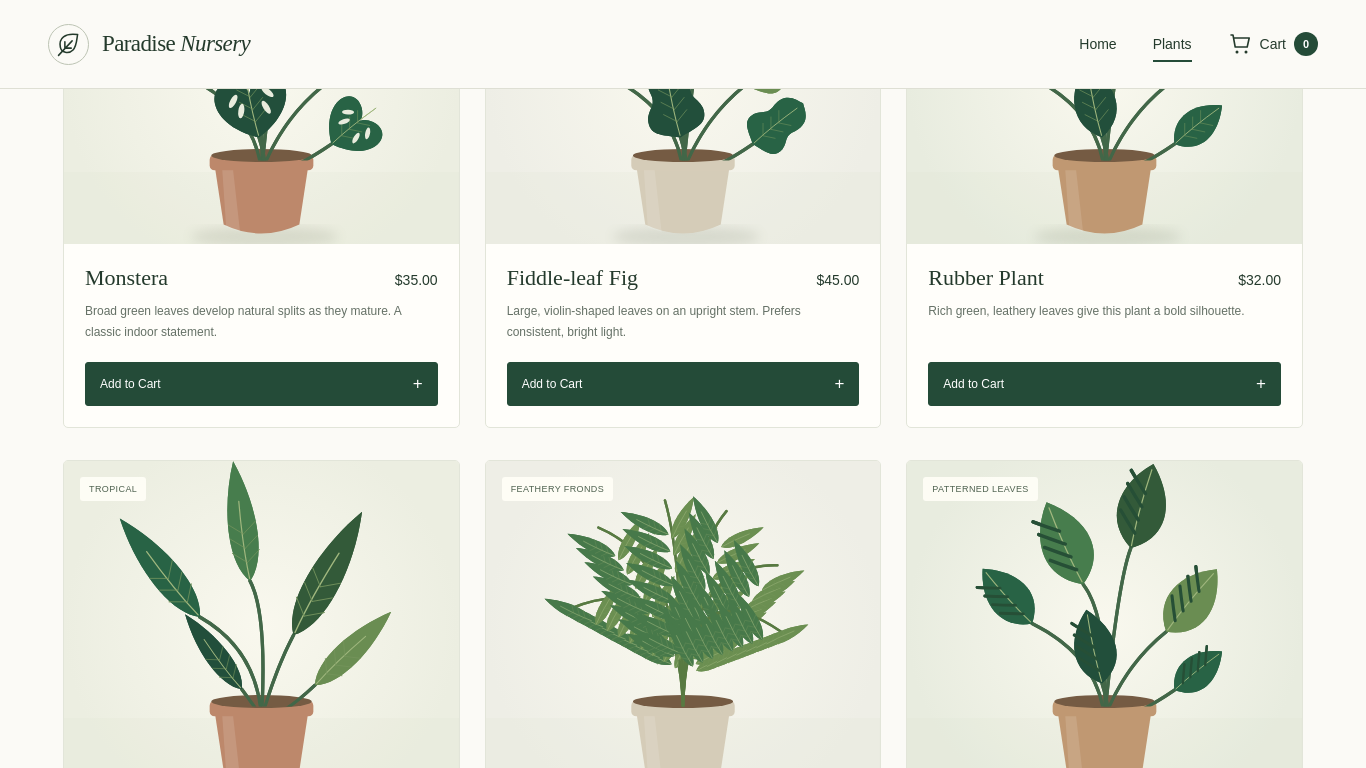
it: Paradise Nursery shopping flow › preserves the cart when navigating Home, Plants, and Cart
The width and height of the screenshot is (1366, 768).
(page scrolled)
Click the button with aria-label "Add Monstera to cart" at (130, 384), box [85, 362, 438, 406]
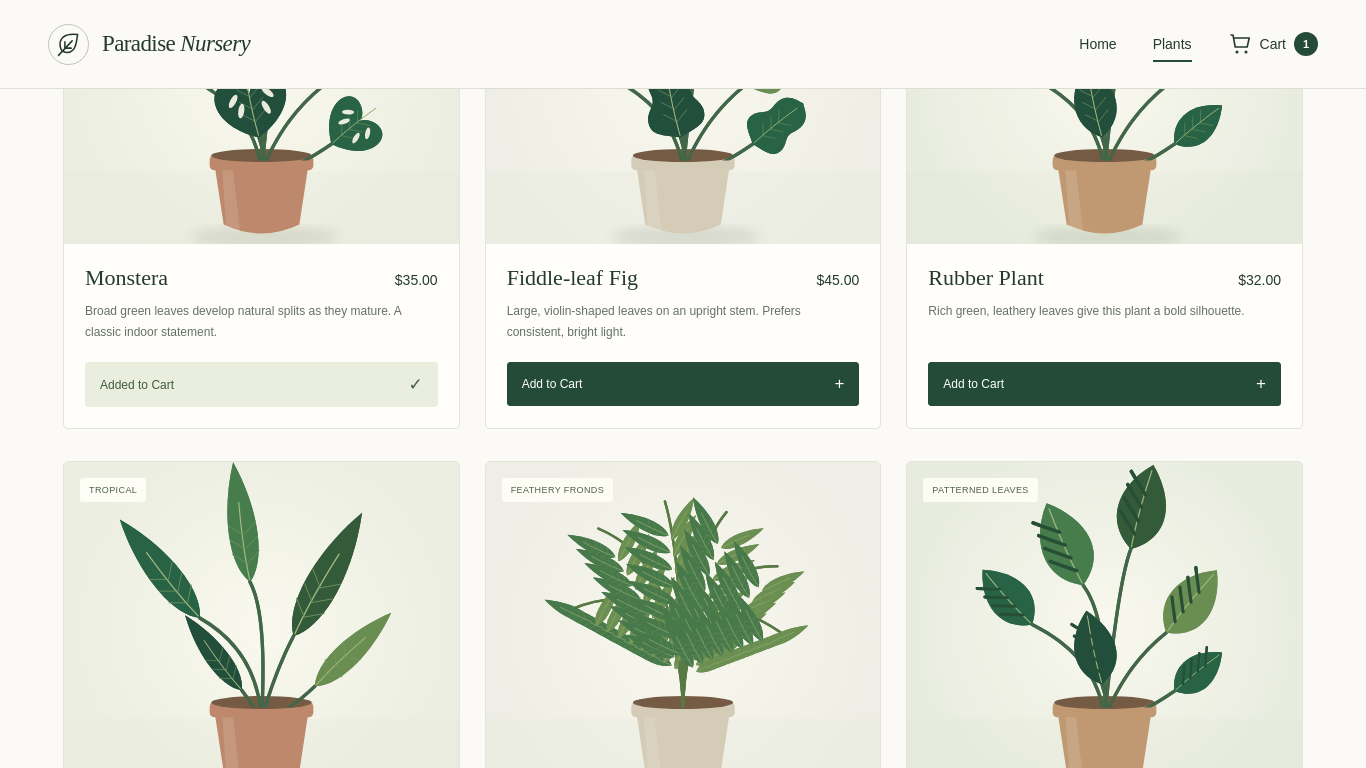
Click the link "Home" at (1098, 44), box [1079, 36, 1117, 52]
(page scrolled)
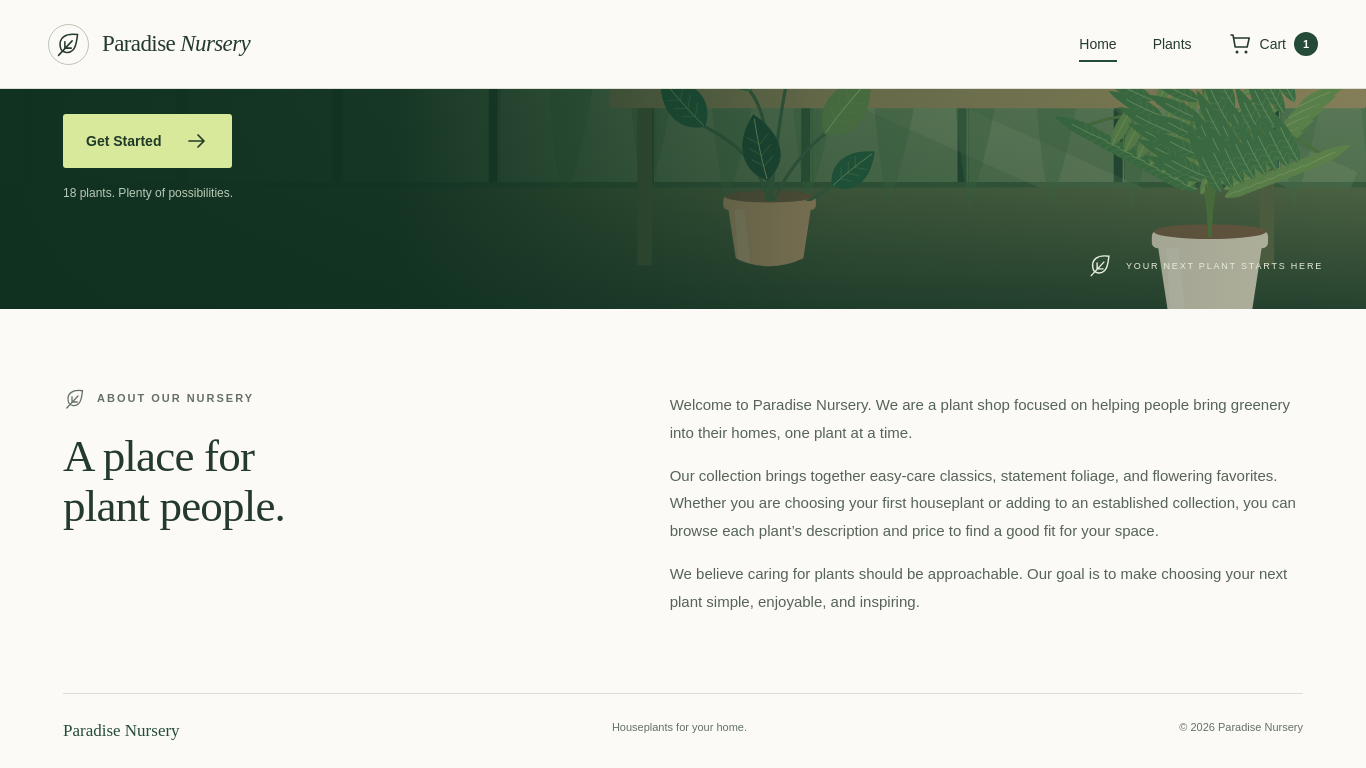
Click the link "Plants" at (1172, 44), box [1153, 36, 1192, 52]
(page scrolled)
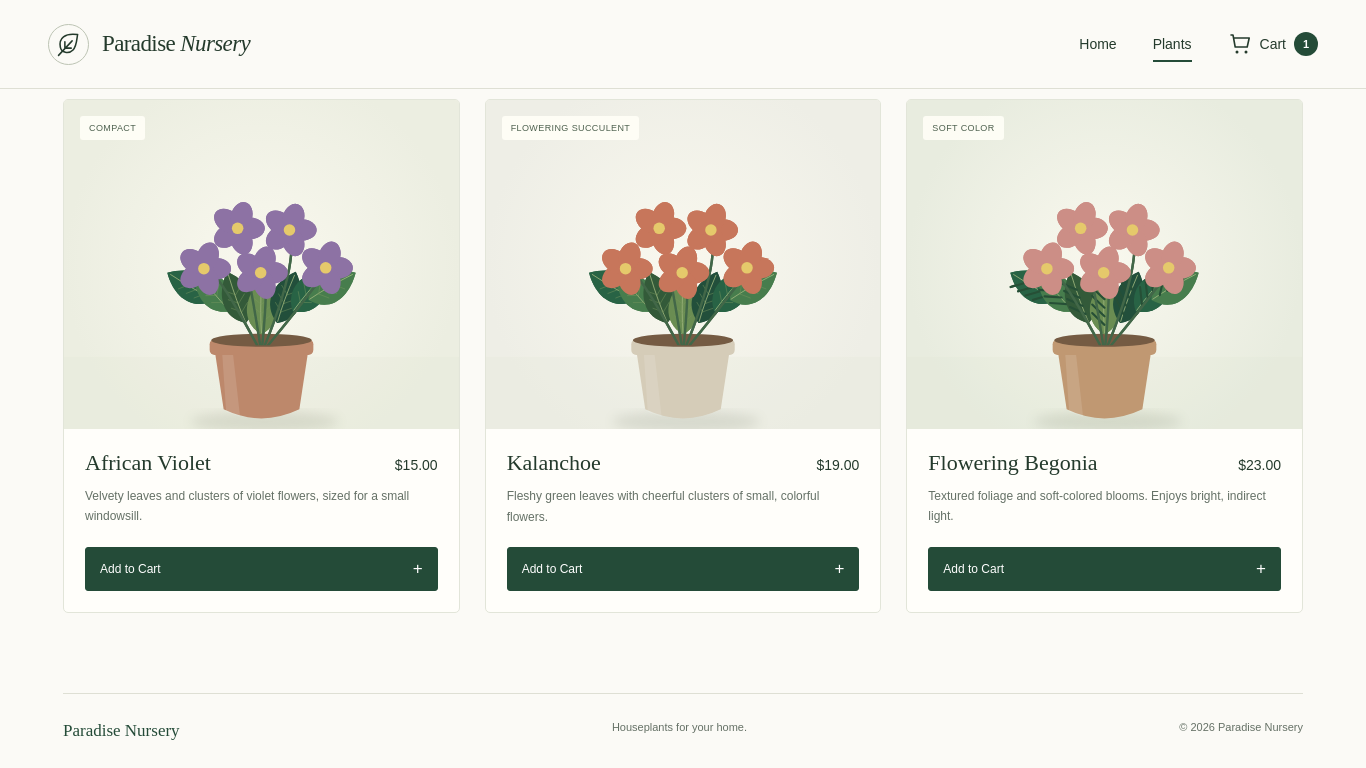
Click the link with aria-label "Cart, 1 item" at (1273, 44), box [1228, 32, 1318, 56]
(page scrolled)
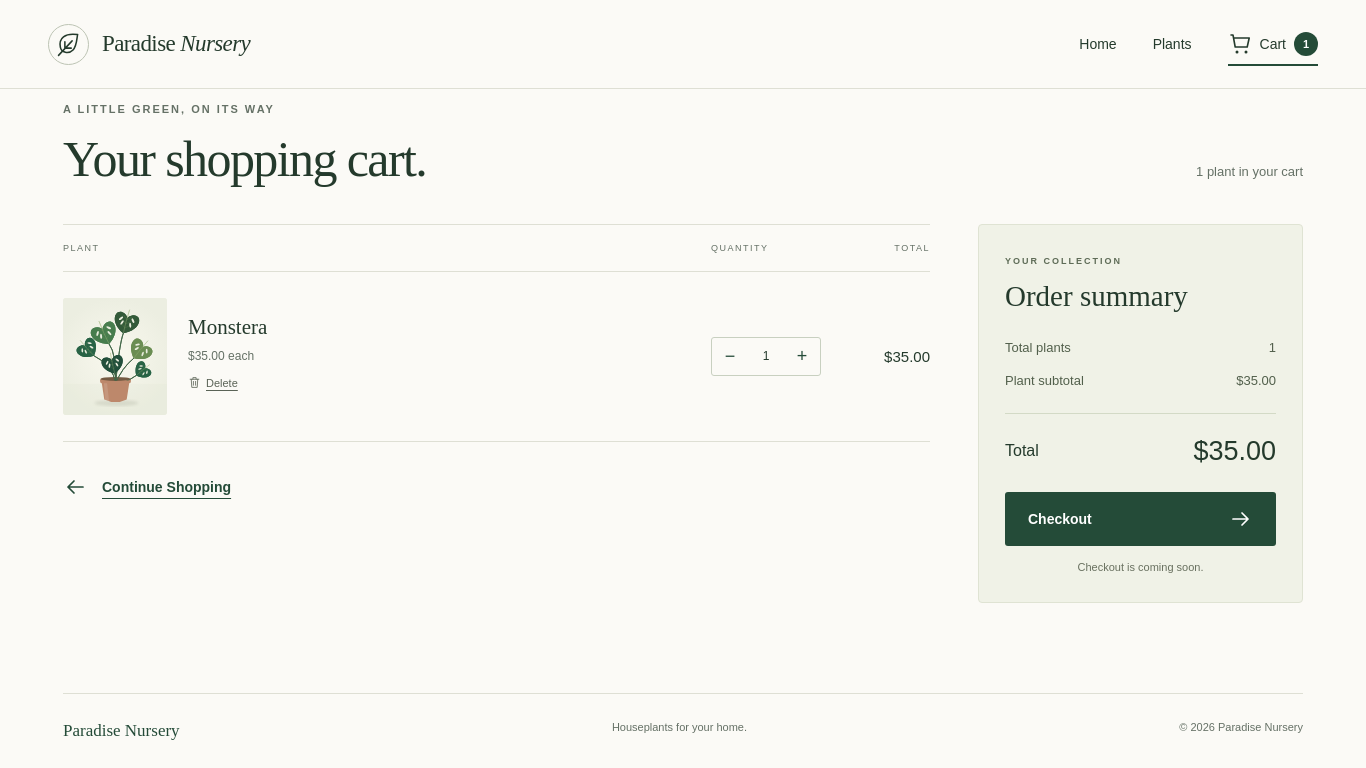
Check: the link "Home" is shown, box [1079, 36, 1117, 52]
Check: the text with test id "cart-total" reads "$35.00", box [1193, 436, 1276, 466]
